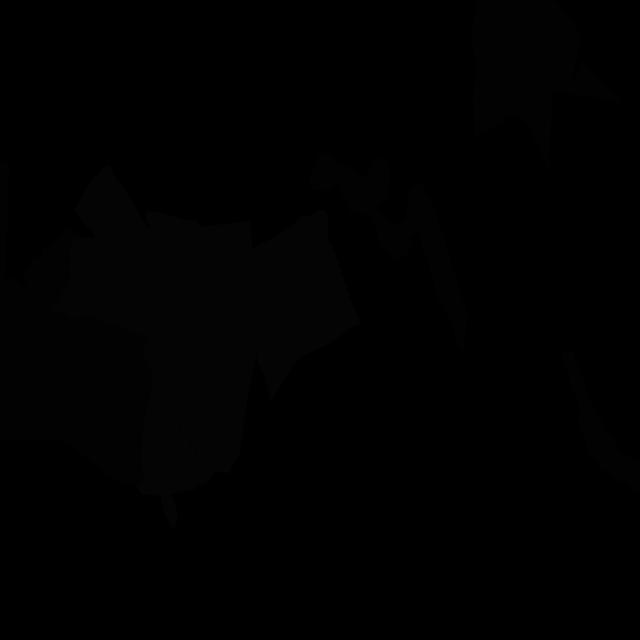cardboard: (308, 153, 468, 351), (0, 306, 153, 486), (471, 0, 623, 169), (562, 350, 640, 493), (0, 227, 86, 313), (0, 159, 10, 278)
soft_plastic: (141, 211, 256, 473), (252, 209, 361, 403), (51, 165, 168, 338), (136, 373, 220, 528)
